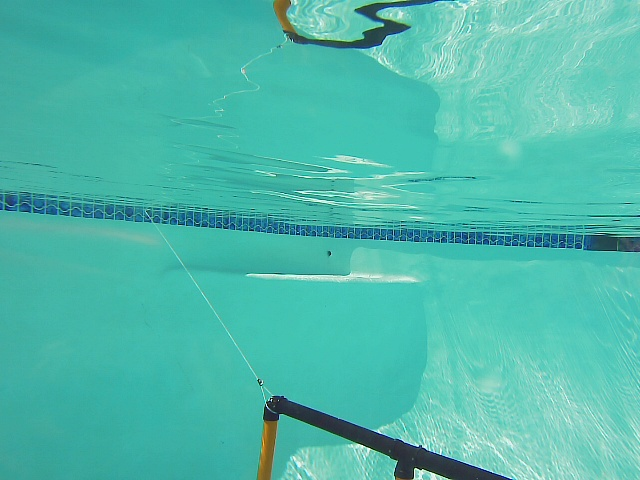Gate: (251, 387, 517, 480)
